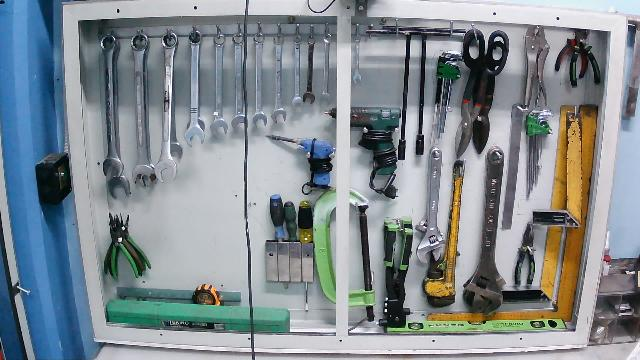kunci_l: (431, 46, 464, 146)
